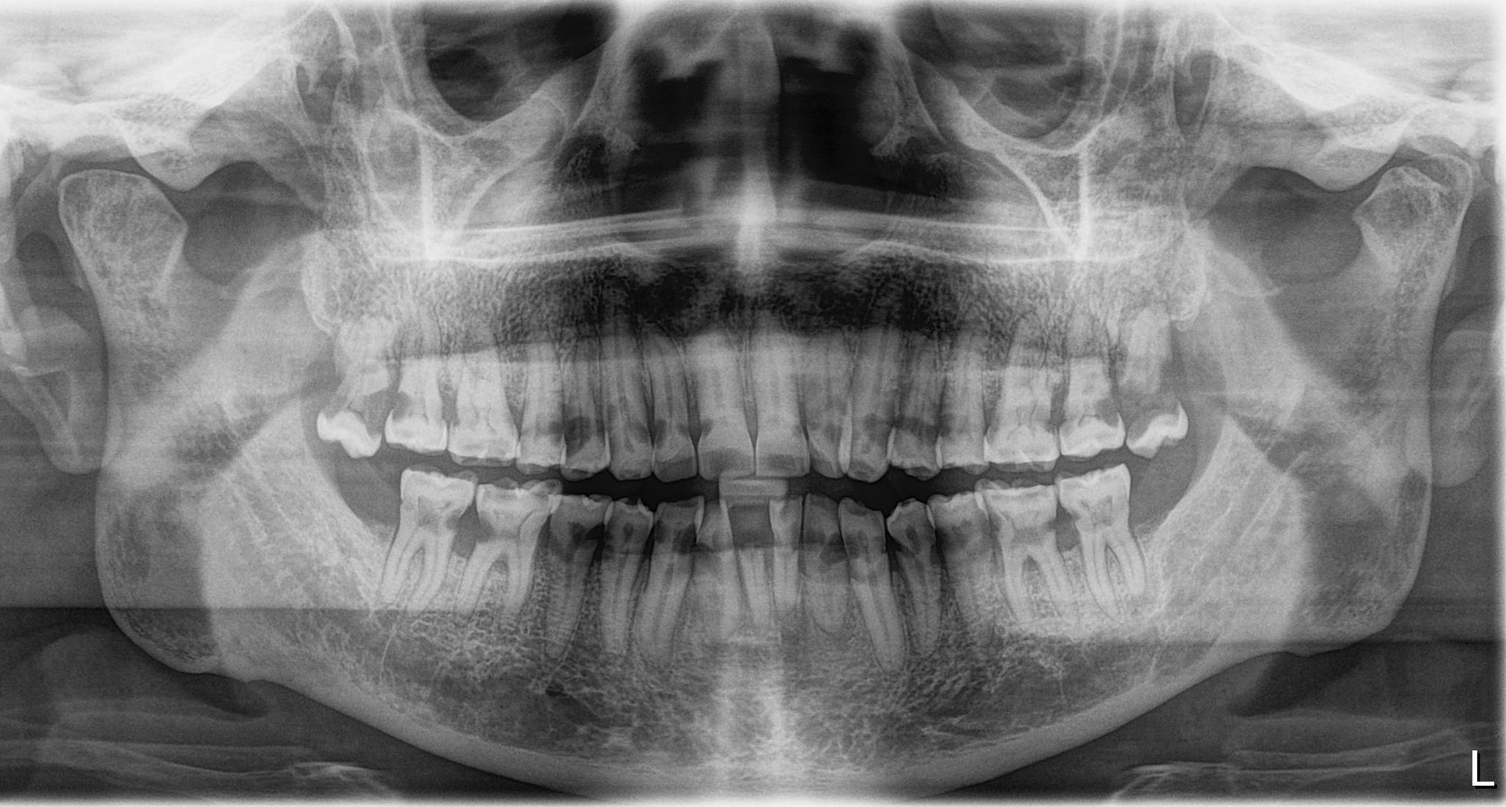Dental Caries: (835, 408, 949, 443), (816, 522, 867, 568), (452, 502, 492, 558), (1046, 509, 1083, 564), (557, 415, 596, 452), (410, 502, 439, 543)
Missing Tooth: (1129, 465, 1201, 555), (335, 461, 395, 568)
